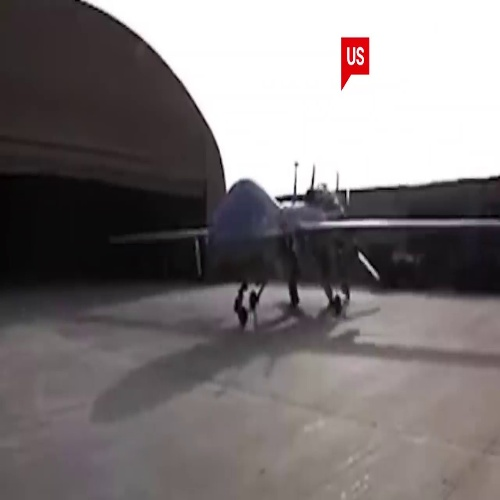uav: (95, 170, 500, 317)
